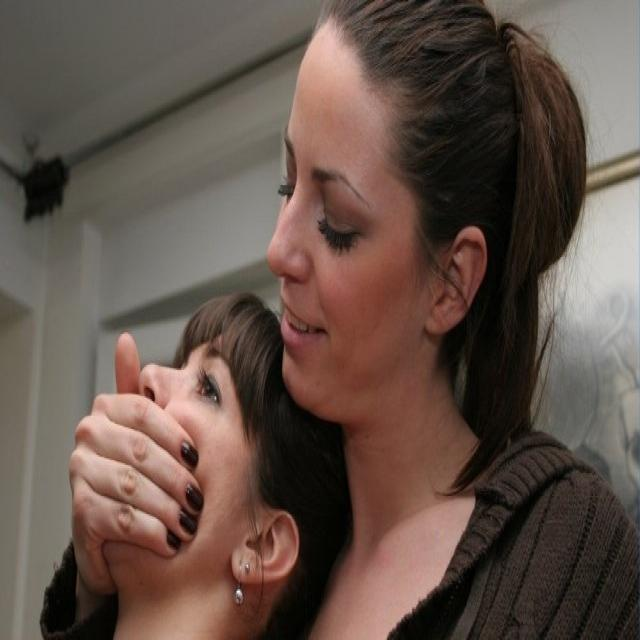nomask: (269, 19, 417, 426), (87, 322, 261, 552)
